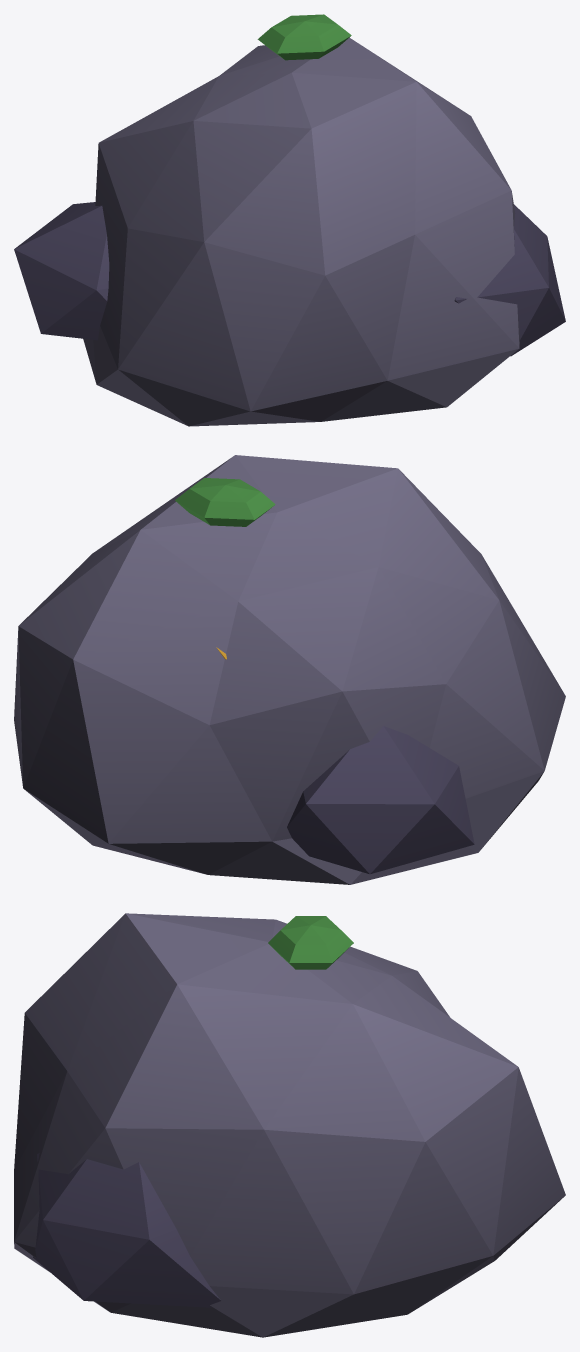
Rendered from wild_ore.glb.
3 renders of one model, top to bottom at view 1: azimuth 30°, elevation 25°; view 2: azimuth 150°, elevation 25°; view 3: azimuth 270°, elevation 25°, orthographic. The views are drawn at different scales.
Parts seen in each view (by area): view 1: t0_rock_light, t0_rock, t0_moss; view 2: t0_rock_light, t0_rock, t0_moss; view 3: t0_rock_light, t0_rock, t0_moss.
Boxes of the visible parts, left/top/right/bottom form: t0_rock_light: left=83, top=37, right=520, bottom=426; t0_rock: left=14, top=202, right=565, bottom=356; t0_moss: left=257, top=14, right=351, bottom=60; t0_rock_light: left=14, top=455, right=565, bottom=884; t0_rock: left=287, top=726, right=474, bottom=874; t0_moss: left=175, top=478, right=275, bottom=526; t0_rock_light: left=14, top=913, right=565, bottom=1337; t0_rock: left=33, top=1153, right=220, bottom=1307; t0_moss: left=268, top=916, right=353, bottom=969.
Bounding box in the file's own units: 0.6909 × 0.5142 × 0.7036.
